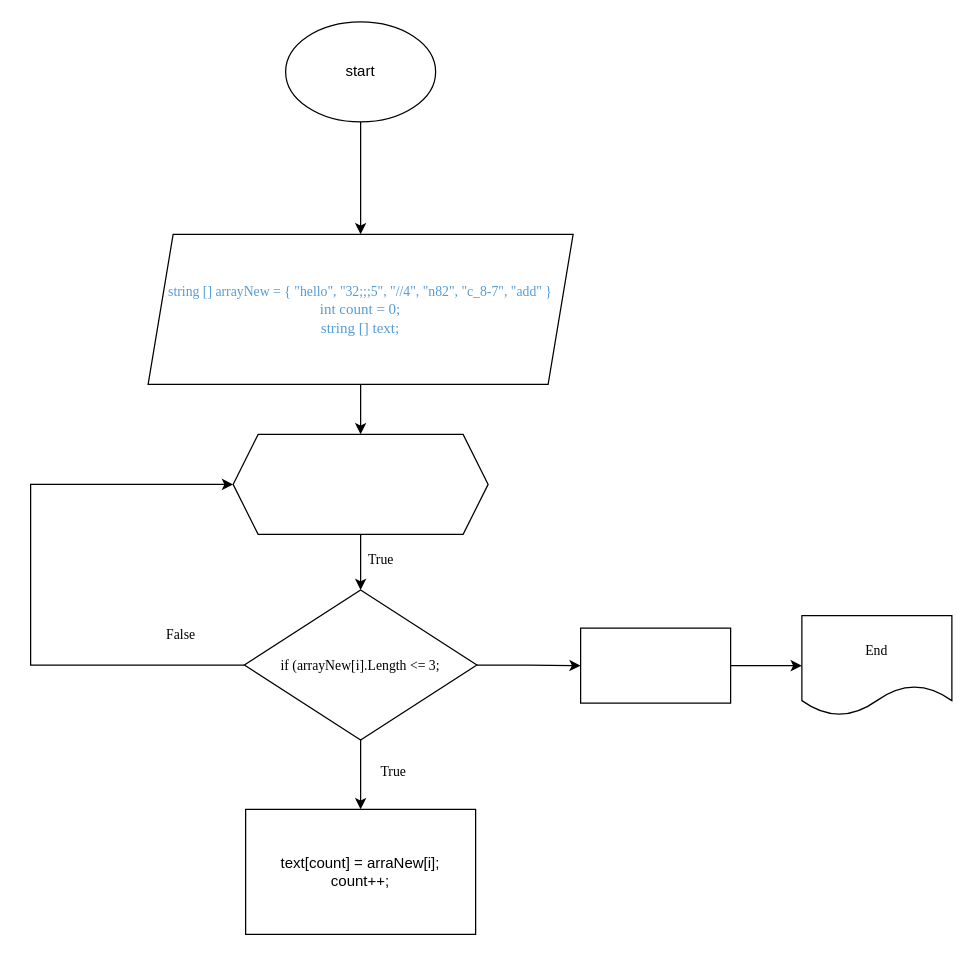
This 974x956 diagram has some shape labels left out. The centre of each missing label's shape, as x and y in pixels:
for (int i = 0; i < arrayNew.Length; i ++;: point (360, 483)
Print(text): point (655, 665)
